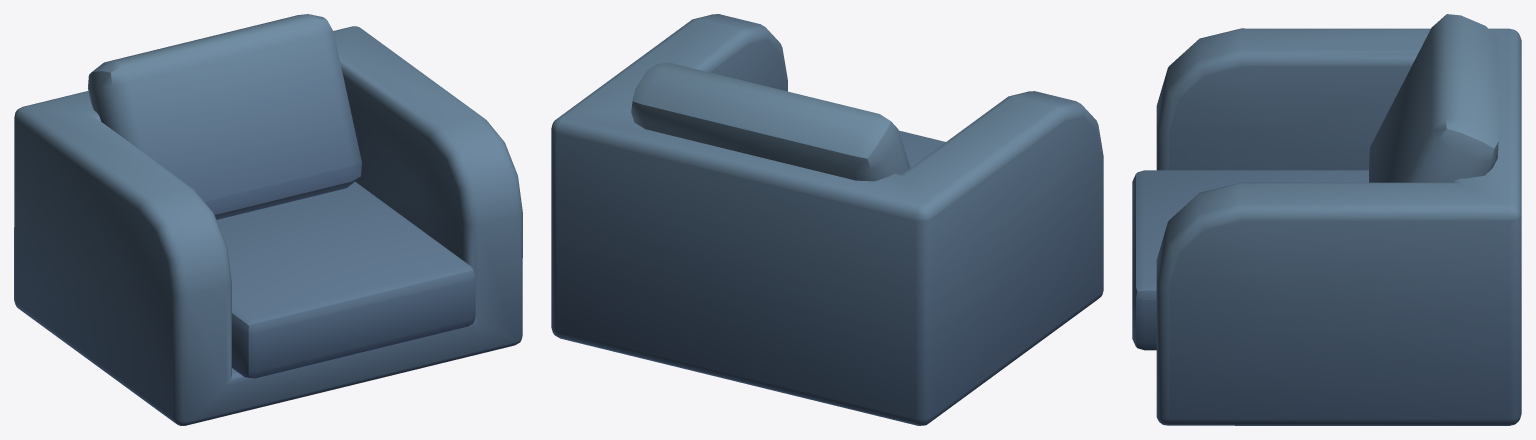
The model's file is armchair.glb.
3 views of the same model, side by side, from view 1: azimuth 30°, elevation 25°; view 2: azimuth 150°, elevation 25°; view 3: azimuth 270°, elevation 25° (orthographic). The views are drawn at different scales.
Visible parts, largest first — view 1: armchair; view 2: armchair; view 3: armchair.
Boxes of the visible parts, x1=… form: armchair: x1=14, y1=14, x2=522, y2=425; armchair: x1=551, y1=14, x2=1103, y2=425; armchair: x1=1132, y1=14, x2=1521, y2=425.
Bounding box in the file's own units: 1.8 × 1.22 × 1.6.
1 material, 1 textured.
